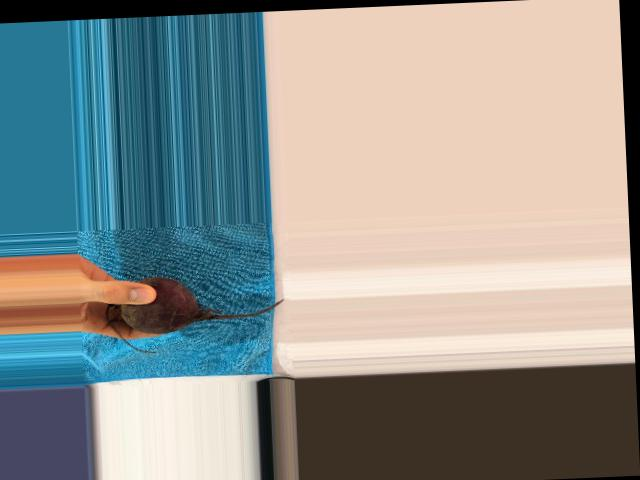beet: (105, 271, 286, 353)
